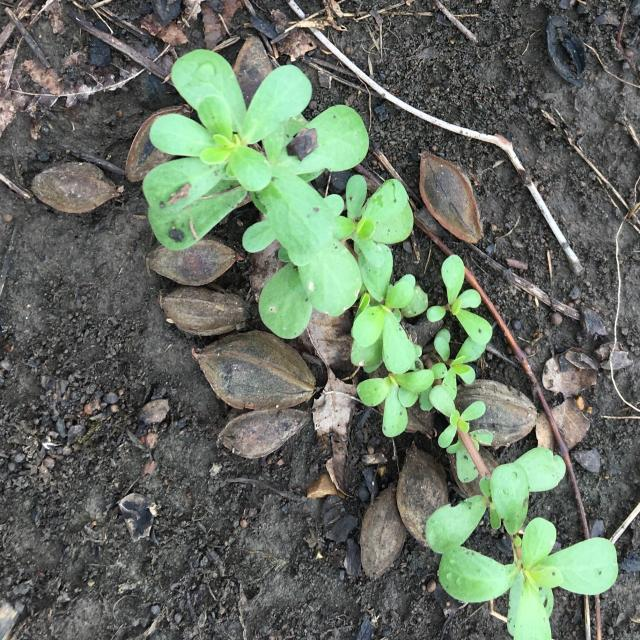Purslane: (142, 50, 618, 640)
